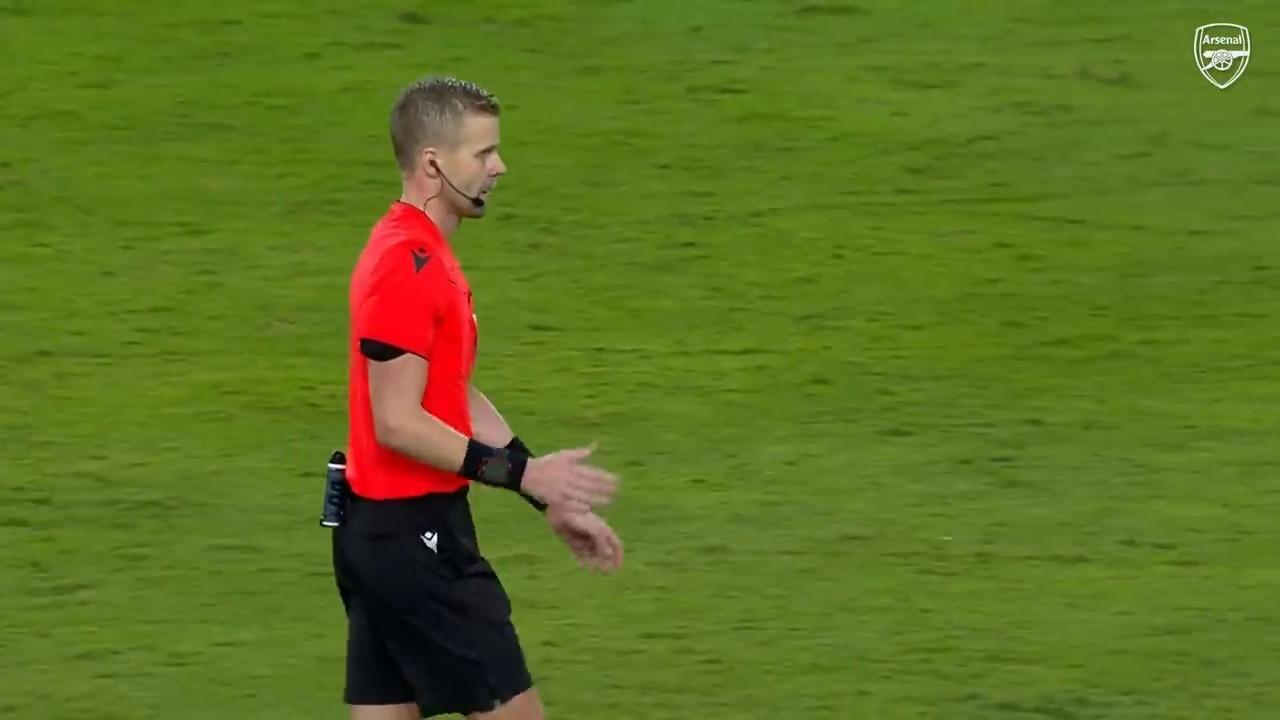Referee: (326, 65, 617, 720)
